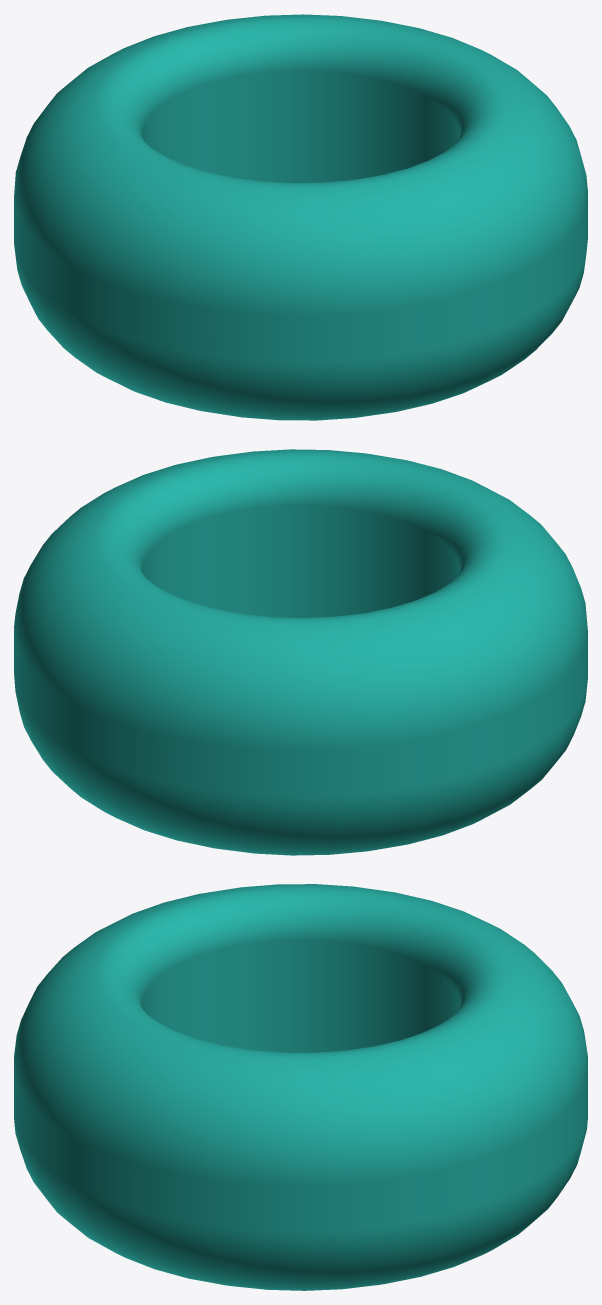
Rendered from disk7.dae.
The picture shows the model from 3 angles, top to bottom: view 1: azimuth 30°, elevation 25°; view 2: azimuth 150°, elevation 25°; view 3: azimuth 270°, elevation 25°; orthographic projection.
Parts seen in each view (by area): view 1: ID2; view 2: ID2; view 3: ID2.
Boxes of the visible parts, bbox=[...] form: ID2: bbox=[14, 14, 587, 420]; ID2: bbox=[14, 449, 587, 855]; ID2: bbox=[14, 884, 587, 1290].
Size of the model in its own units: 0.0225 by 0.0225 by 0.0099.
